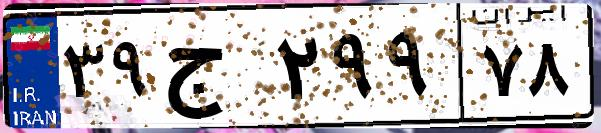2: (270, 28, 330, 110)
3: (57, 26, 110, 100)
7: (475, 38, 525, 113)
8: (525, 38, 570, 115)
9: (385, 28, 445, 110), (330, 28, 385, 110), (110, 28, 158, 98)
ج: (158, 20, 270, 120)
